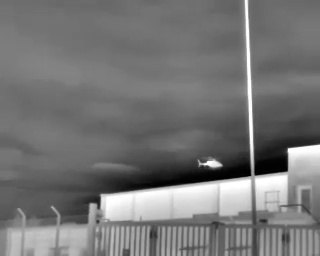HELICOPTER: (192, 152, 229, 173)
